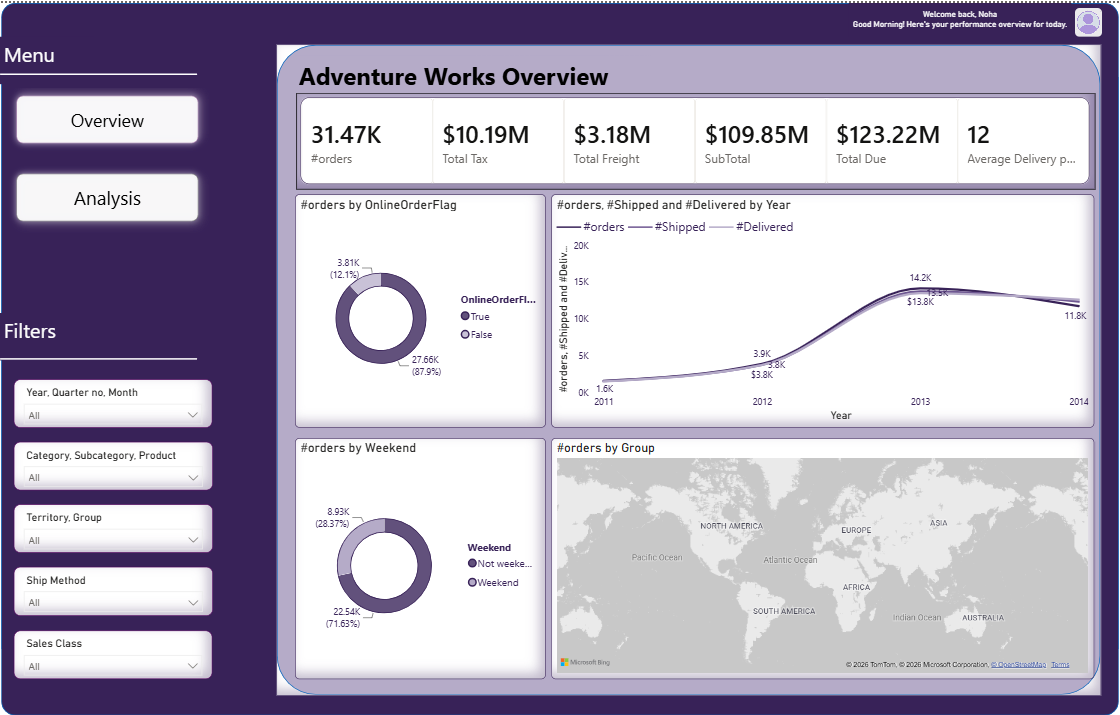

The dashboard page shown, as its layout file describes it:
{"tool":"powerbi","page":{"name":"Overview","canvas":[1500,950],"ordinal":0},"visuals":[{"type":"shape","box":[1.7,0,1490,950],"z":0},{"type":"shape","box":[368.6,54.3,1100,868.6],"z":1000},{"type":"textbox","box":[392.9,70,474.3,61.4],"z":2000},{"type":"slicer","fields":{"Values":["Dim Date.Date Hierarchy.Year","Dim Date.Date Hierarchy.Quarter no","Dim Date.Date Hierarchy.Month"]},"box":[18.3,501.7,265,65],"z":3000},{"type":"slicer","fields":{"Values":["Dim Product.Category Hierarchy.Category","Dim Product.Category Hierarchy.Subcategory","Dim Product.Category Hierarchy.Product"]},"box":[18,585.2,265.7,65],"z":4000},{"type":"card","fields":{"Values":["messures.Greeting"]},"box":[1131.4,0,297.1,45.7],"z":5000},{"type":"slicer","fields":{"Values":["Dim ShipMethod.Name"]},"box":[18,752.4,265.7,65.7],"z":6000},{"type":"slicer","fields":{"Values":["Dim Territory.Territory","Dim Territory.Group"]},"box":[18,668.8,265.7,65],"z":7000},{"type":"slicer","fields":{"Values":["Dim SalesPerson.Sales Class"]},"box":[18.3,836.7,265,65],"z":8000},{"type":"donutChart","fields":{"Y":["messures.#orders"],"Category":["Fact sales.OnlineOrderFlag"]},"box":[392.9,255.7,334.3,311.4],"z":9000},{"type":"lineChart","fields":{"Category":["Dim Date.Date Hierarchy.Year"],"Y":["messures.#orders","messures.#Shipped","messures.#Delivered"]},"box":[734.3,255.7,724.3,311.4],"z":10000},{"type":"filledMap","fields":{"Category":["Dim Territory.Group"]},"box":[734.3,580,724.3,321.4],"z":11000},{"type":"donutChart","title":"#orders by Weekend","fields":{"Y":["messures.#orders"],"Category":["Dim Date.IsWeekend"]},"box":[392.9,580,334.3,321.4],"z":12000},{"type":"textbox","box":[0,412.9,125.7,62.9],"z":13000},{"type":"textbox","box":[0,45.7,125.7,62.9],"z":14000},{"type":"shape","box":[0,457.1,262.9,35.7],"z":15000},{"type":"shape","box":[0,70,262.9,50],"z":16000},{"type":"cardVisual","fields":{"Data":["messures.#orders","messures.Total Tax","messures.Total Freight","messures.SubTotal","messures.Total Due","messures.Average Delivery period"]},"box":[395.7,120,1065.7,128.6],"z":17000},{"type":"pageNavigator","box":[6.7,108.3,273.3,198.3],"z":18000},{"type":"image","box":[1432.9,7.1,35.7,38.6],"z":19000}]}

Visuals, with their boxes on the page's 1500x950 design canvas (x1, y1, x2, y2). These are canvas units, not pixel positions in the 1120x715 screenshot, which may show the page scaled, cropped or inside an application window:
shape: 2,0,1492,950
shape: 369,54,1469,923
textbox: 393,70,867,131
slicer - Dim Date.Date Hierarchy.Year x Dim Date.Date Hierarchy.Quarter no: 18,502,283,567
slicer - Dim Product.Category Hierarchy.Category x Dim Product.Category Hierarchy.Subcategory: 18,585,284,650
card - messures.Greeting: 1131,0,1428,46
slicer - Dim ShipMethod.Name: 18,752,284,818
slicer - Dim Territory.Territory x Dim Territory.Group: 18,669,284,734
slicer - Dim SalesPerson.Sales Class: 18,837,283,902
donutChart - messures.#orders x Fact sales.OnlineOrderFlag: 393,256,727,567
lineChart - Dim Date.Date Hierarchy.Year x messures.#orders: 734,256,1459,567
filledMap - Dim Territory.Group: 734,580,1459,901
"#orders by Weekend" donutChart: 393,580,727,901
textbox: 0,413,126,476
textbox: 0,46,126,109
shape: 0,457,263,493
shape: 0,70,263,120
cardVisual - messures.#orders x messures.Total Tax: 396,120,1461,249
pageNavigator: 7,108,280,307
image: 1433,7,1469,46
